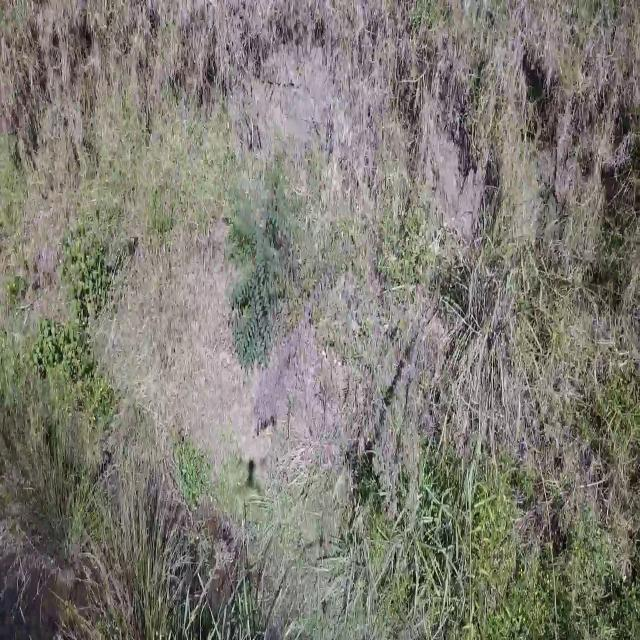Mysore-Thorn-Weed: (224, 165, 299, 373)
